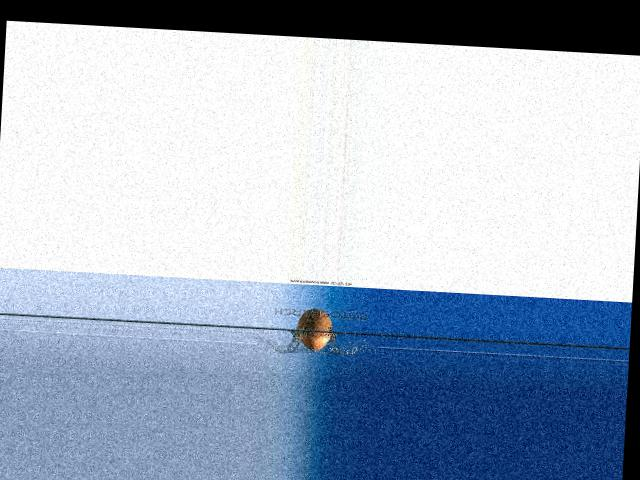egg: (295, 308, 332, 351)
